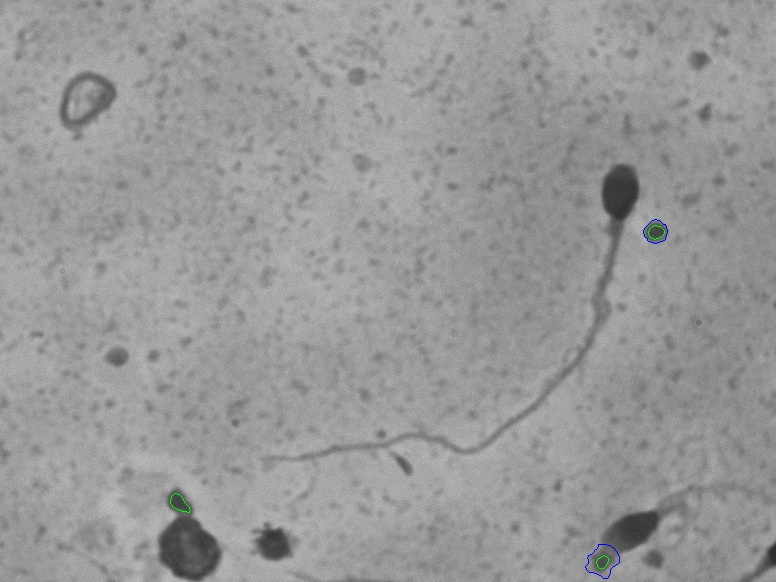Normal: (245, 149, 655, 472)
